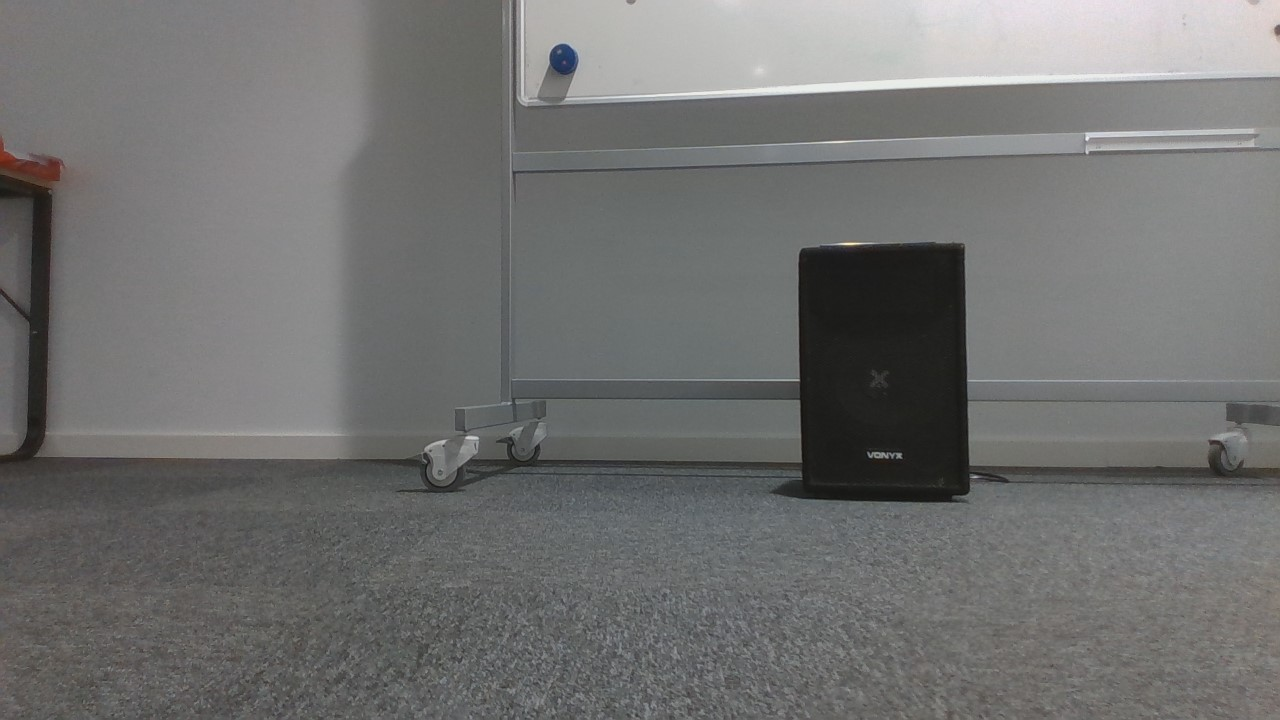alfa: (546, 42, 581, 73)
